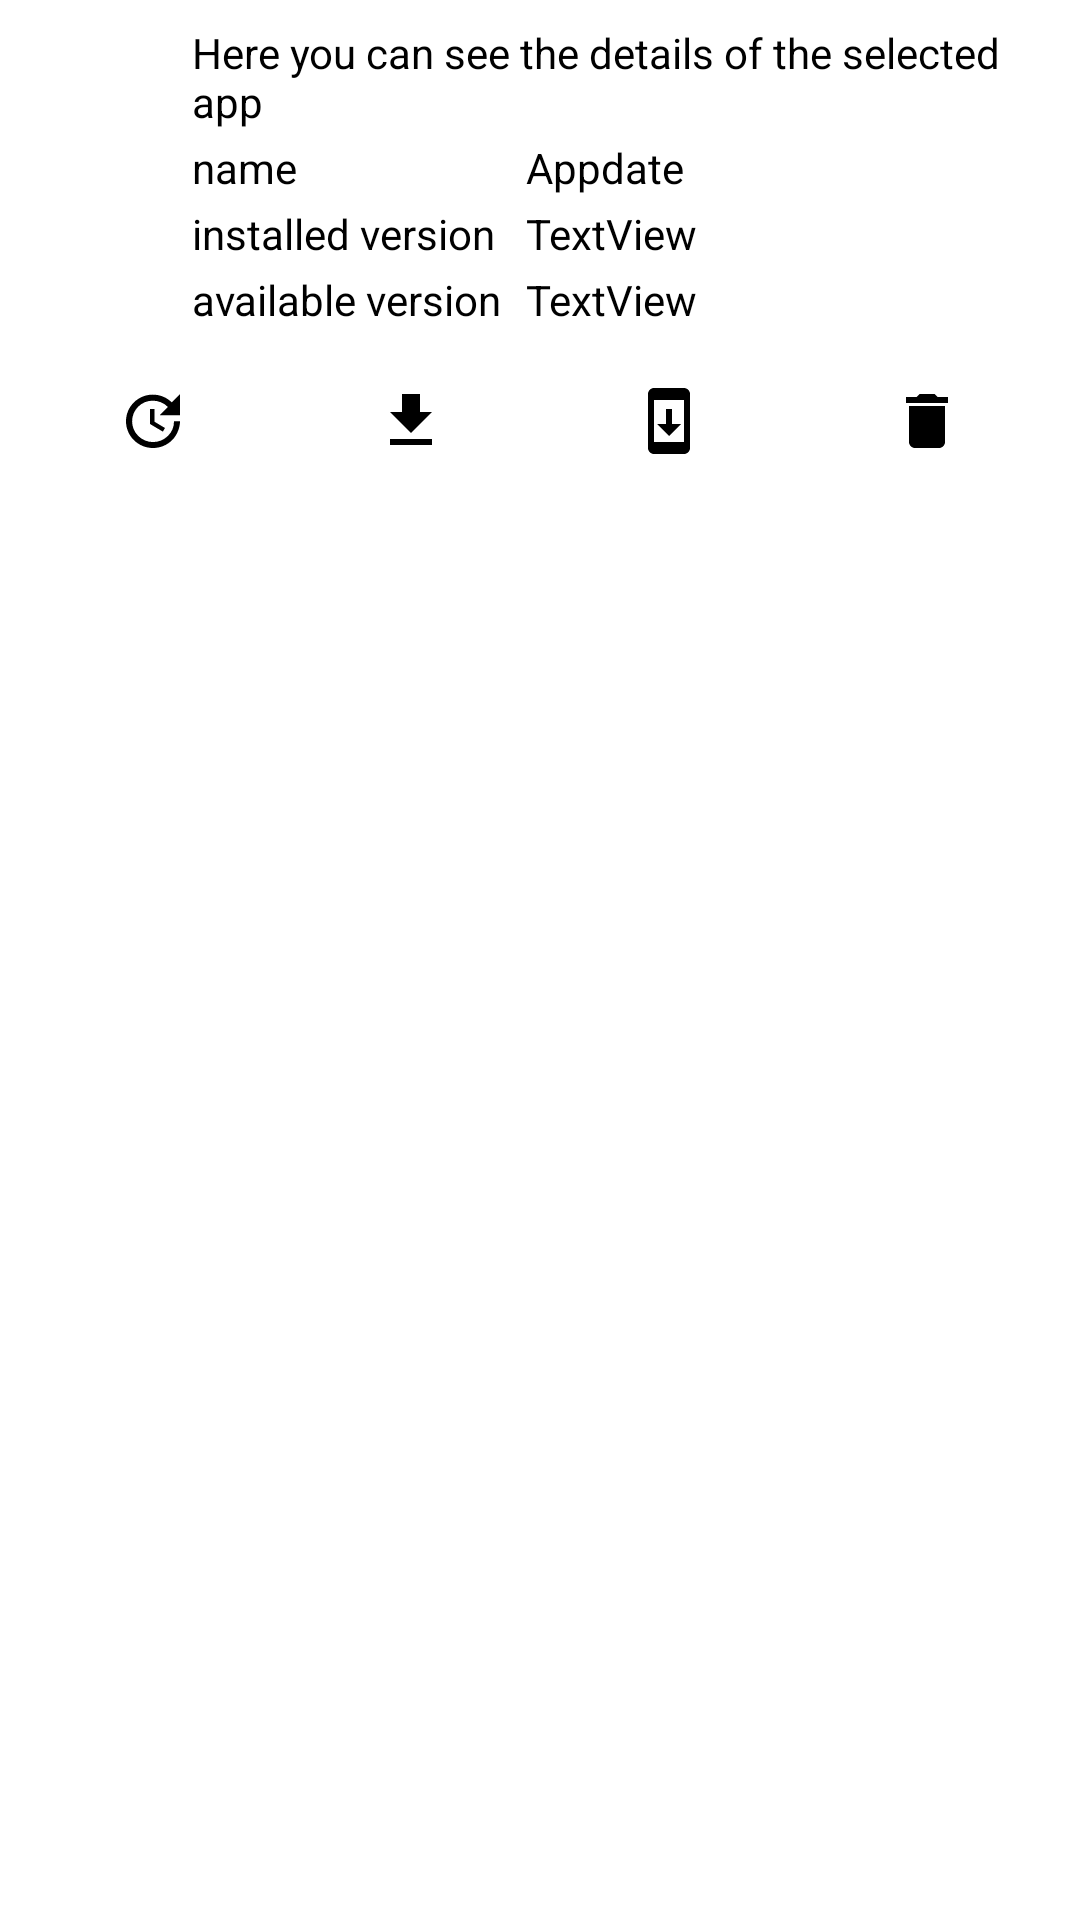

Icons on this 1080px x 1920px Android screen, each with the point to tap as point (x, y):
delete: point (927, 421)
file download: point (411, 419)
install update: point (669, 421)
update: point (153, 421)
